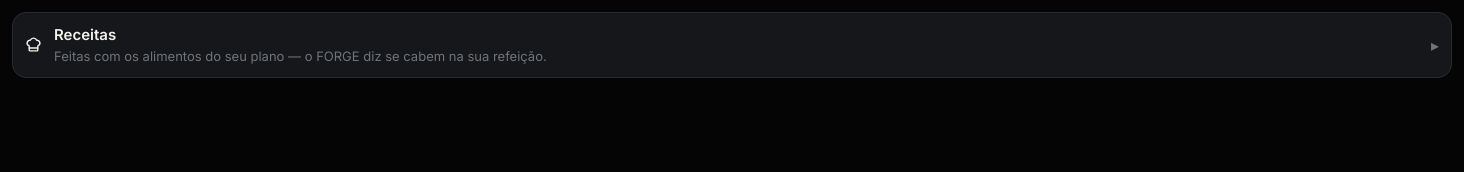
Test case: erro do servidor aparece com motivo e nao derruba a tela
The width and height of the screenshot is (1464, 172).
Step 1. Click the button with test id "abrir-receitas" → (85, 34), box 12,12 -> 1452,78
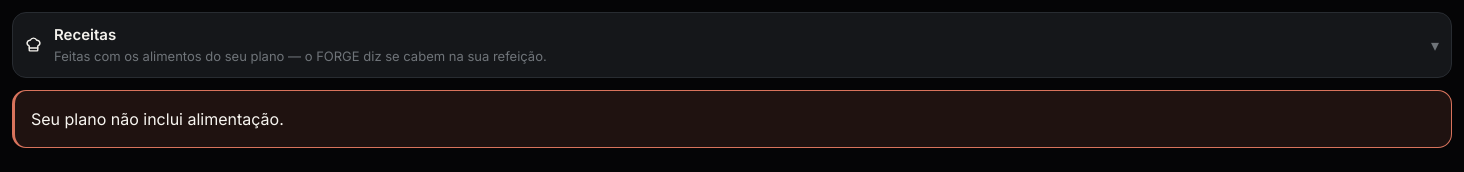
Expected: the message "Seu plano não inclui alimentação." is shown, 12,90 -> 1452,148
